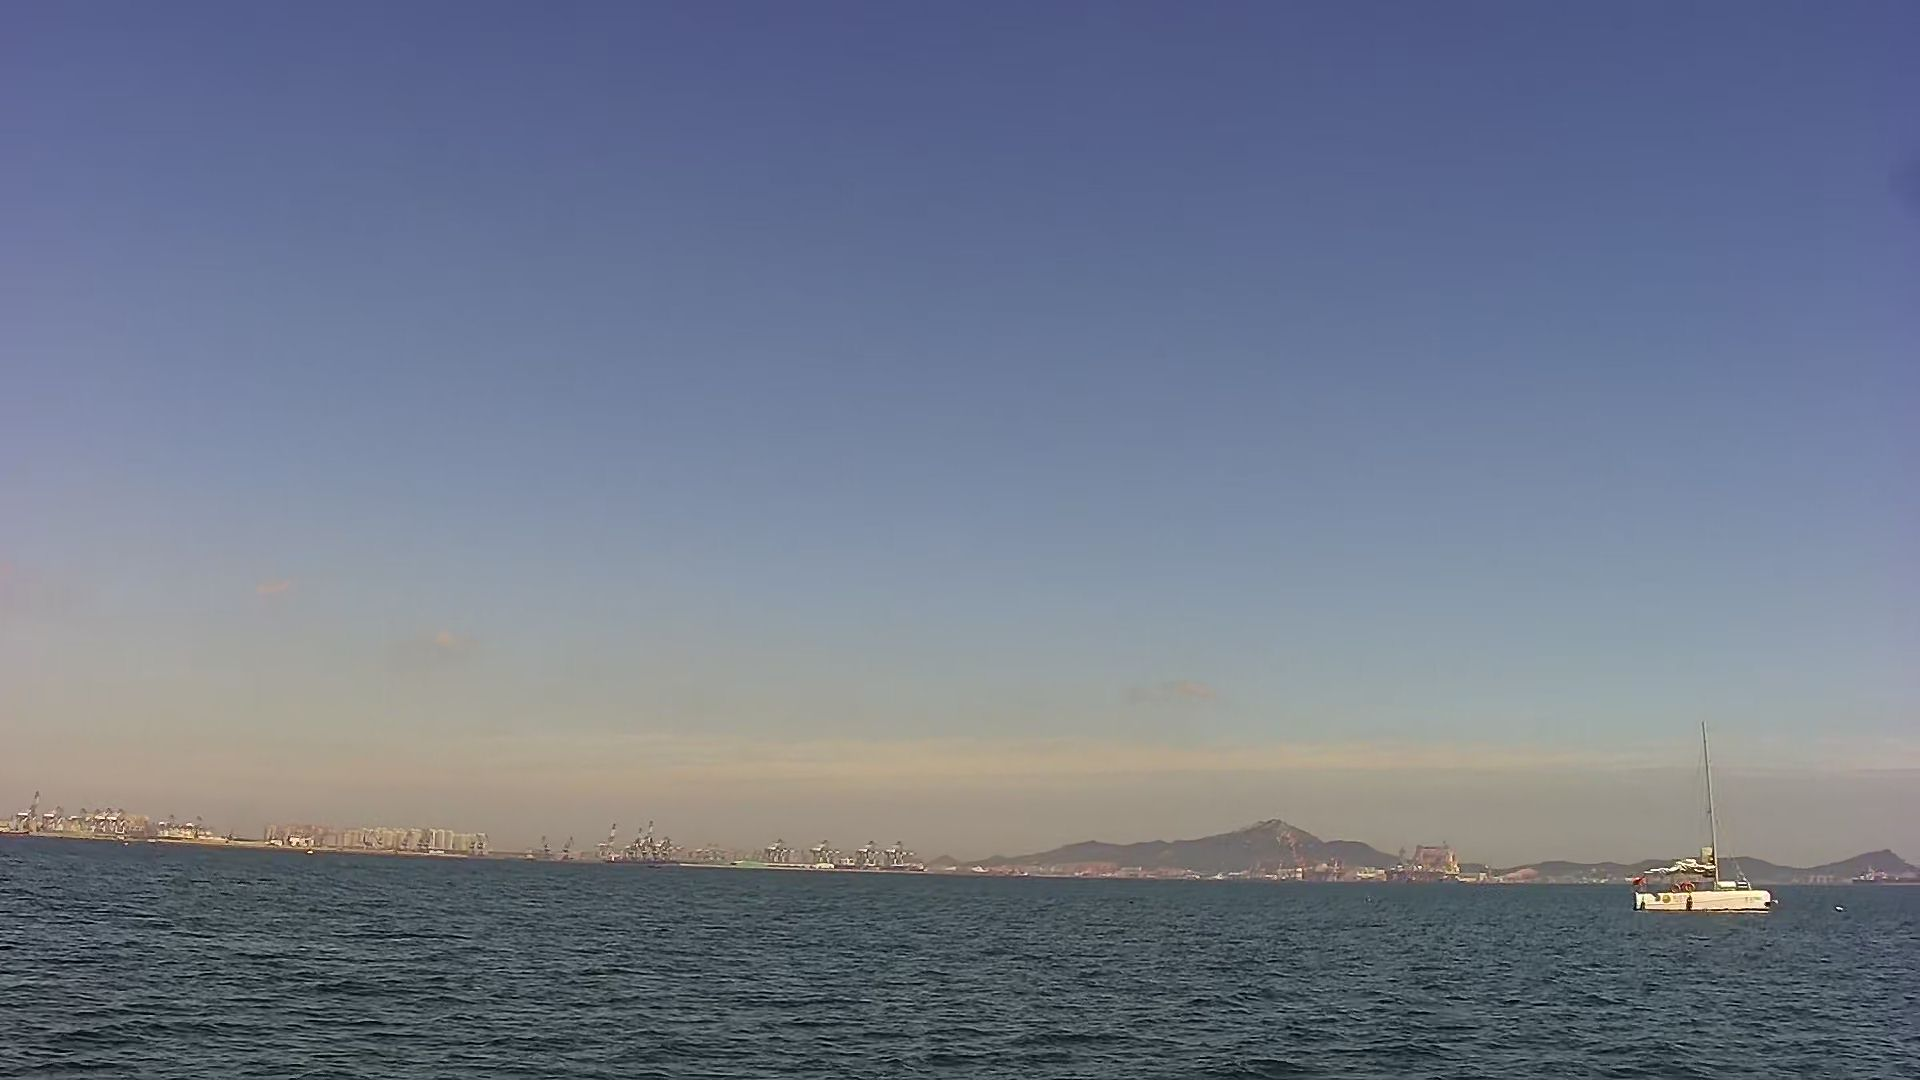boat: (1636, 721, 1770, 914)
